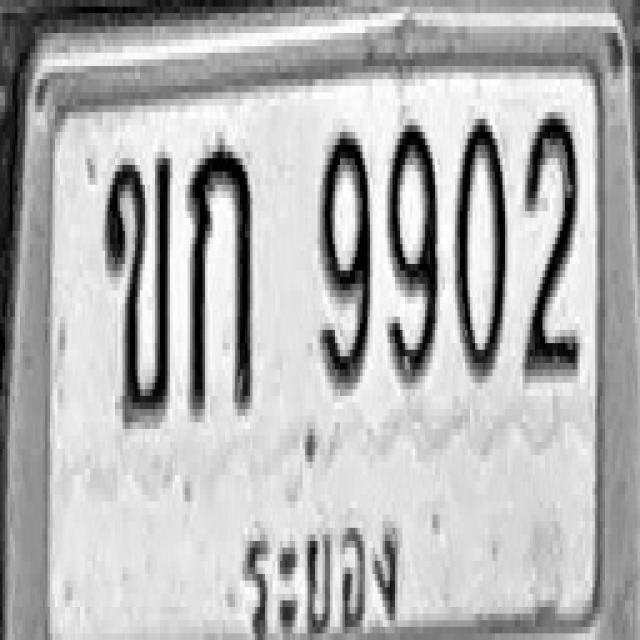0: (454, 109, 506, 379)
10GorGai: (188, 136, 252, 412)
11KhorKhai: (102, 152, 170, 422)
2: (522, 106, 578, 376)
9: (319, 126, 371, 390), (385, 119, 437, 382)
Rayong: (235, 501, 403, 640)
